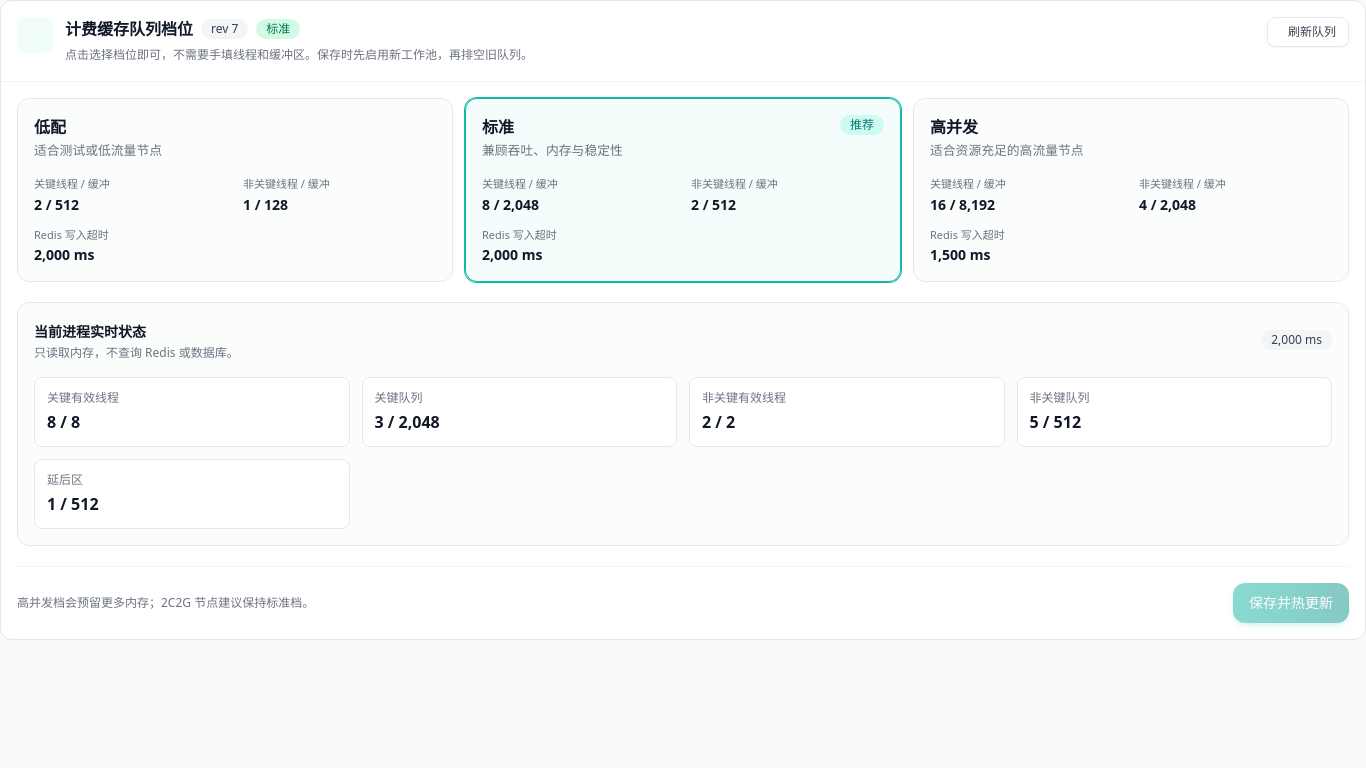
BillingCacheRuntimeCard › 保存失败立即恢复服务端旧档位
Click the button that starts with "高并发" at (954, 127), box [913, 98, 1349, 282]
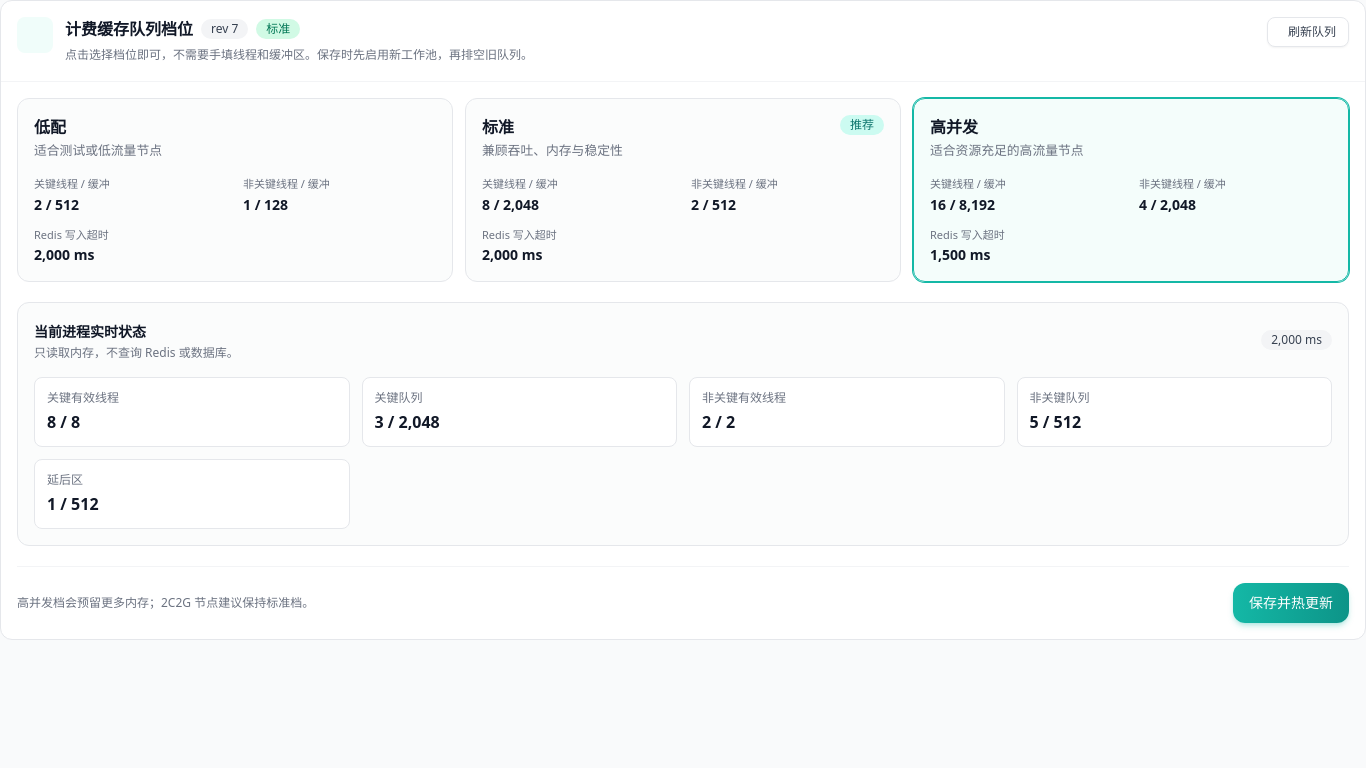
Click the button "保存并热更新" at (1291, 603), box [1233, 583, 1349, 623]
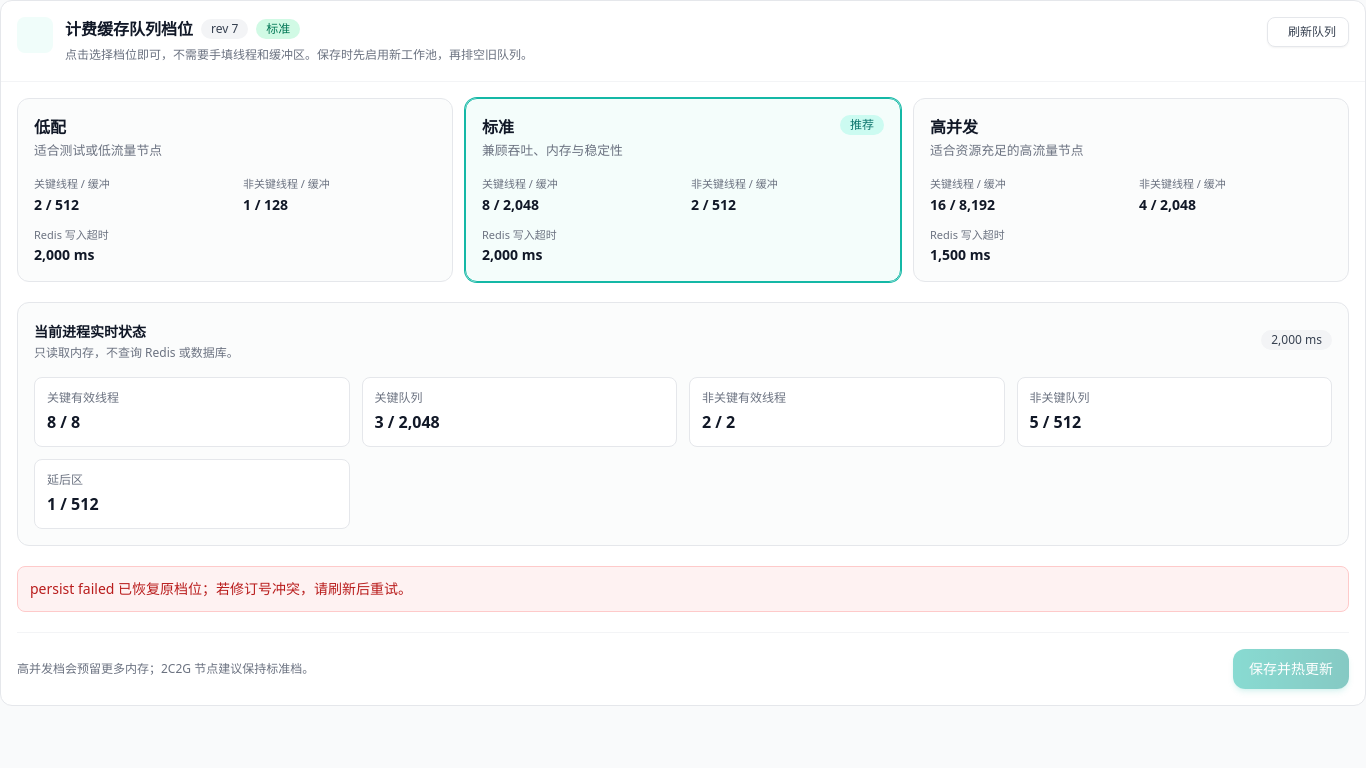
Check: the text "已恢复原档位" is shown, box [30, 579, 412, 598]
